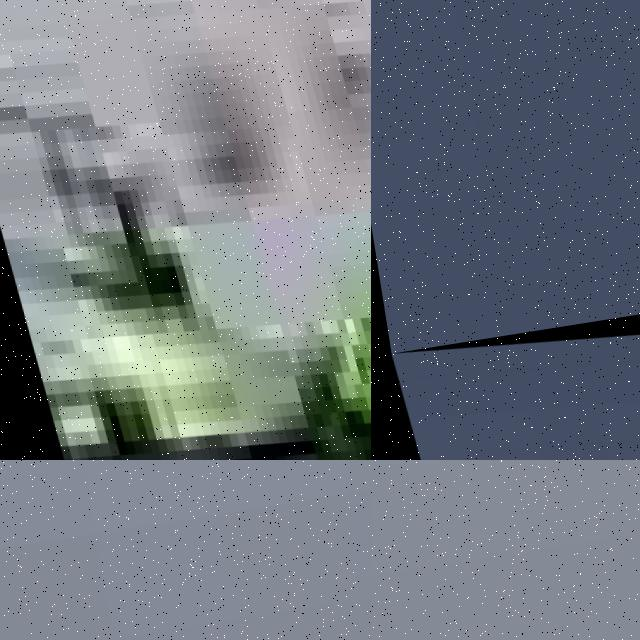drone: (0, 0, 371, 460), (392, 253, 640, 460)
